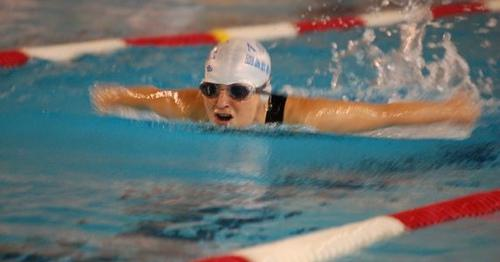swimmer: (86, 36, 477, 138)
